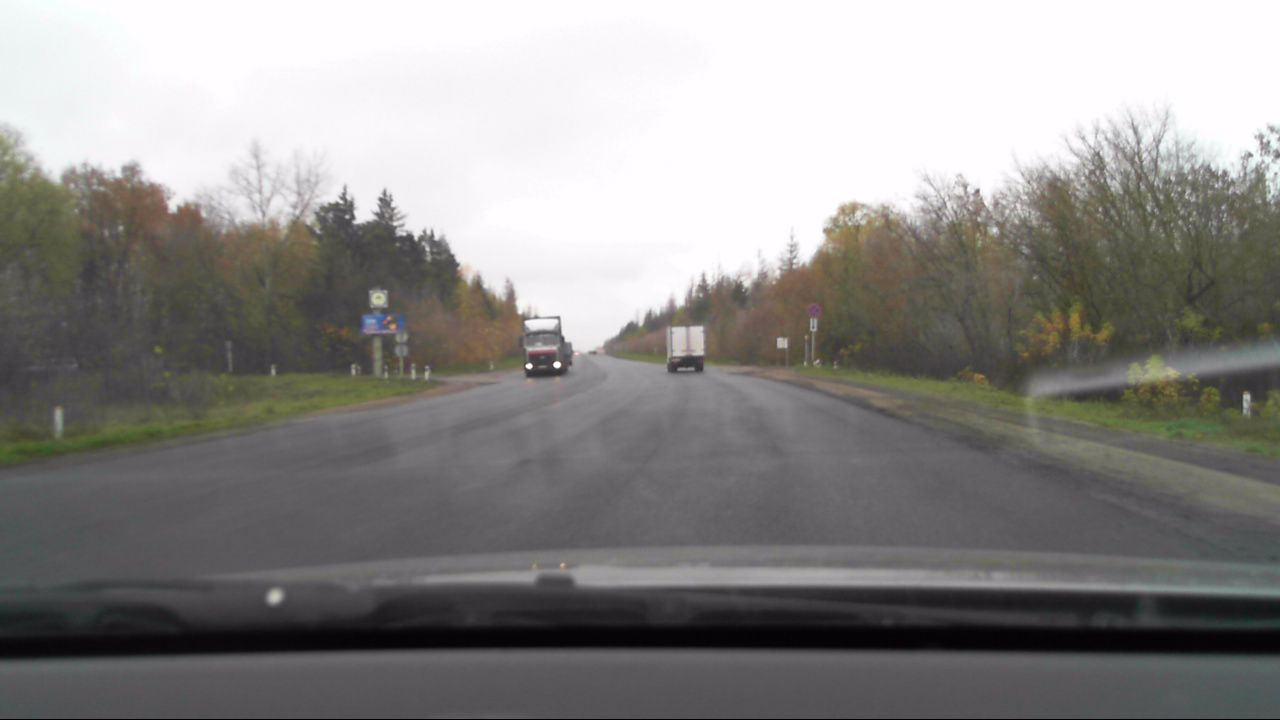No Parking: (806, 299, 824, 317)
